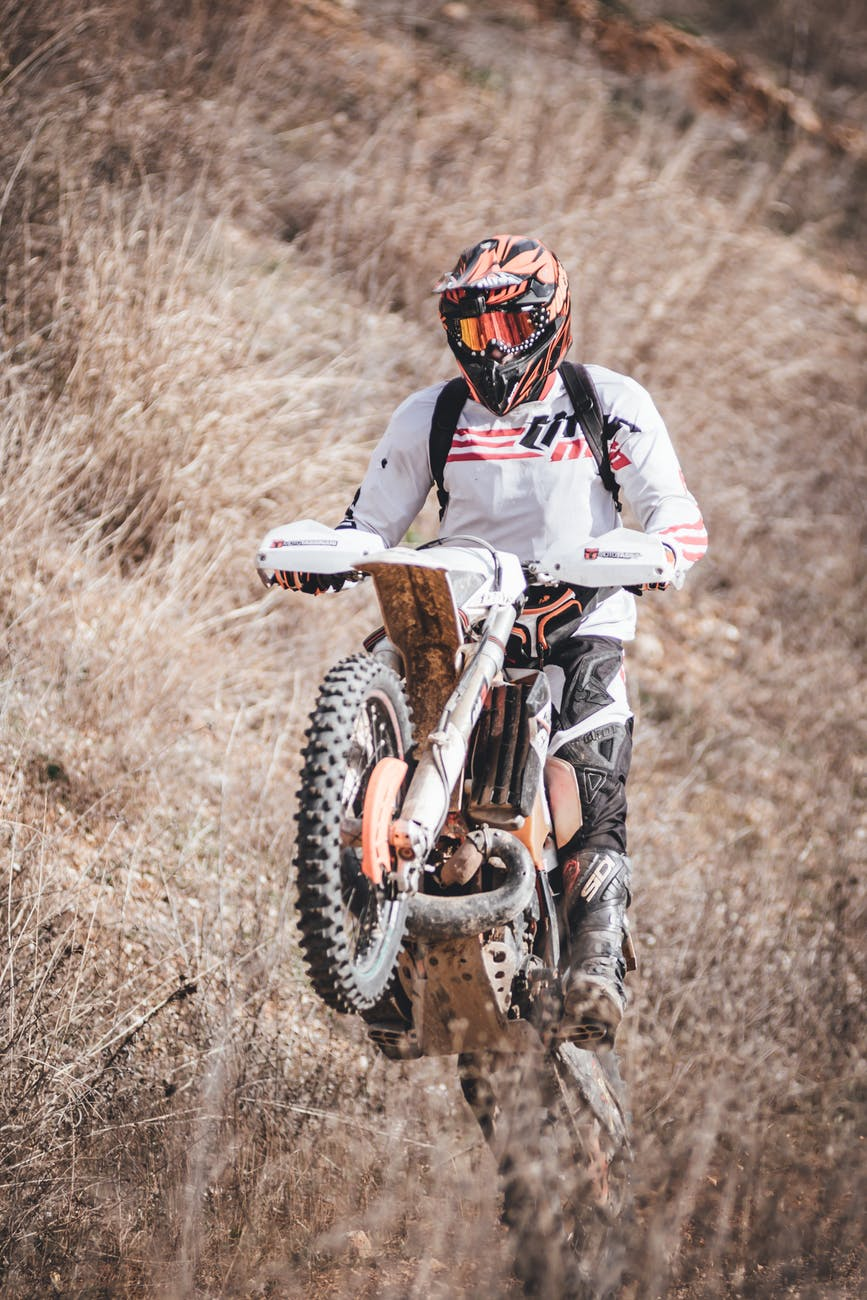helmet: (430, 229, 584, 411)
